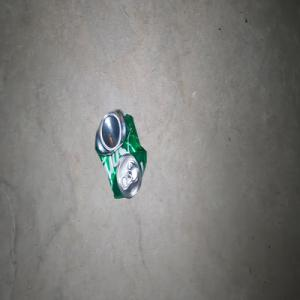SodaCan: (95, 108, 146, 199)
